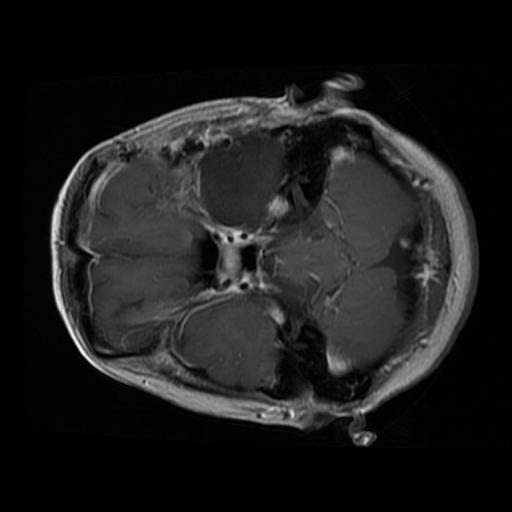glioma: (199, 133, 287, 232)
